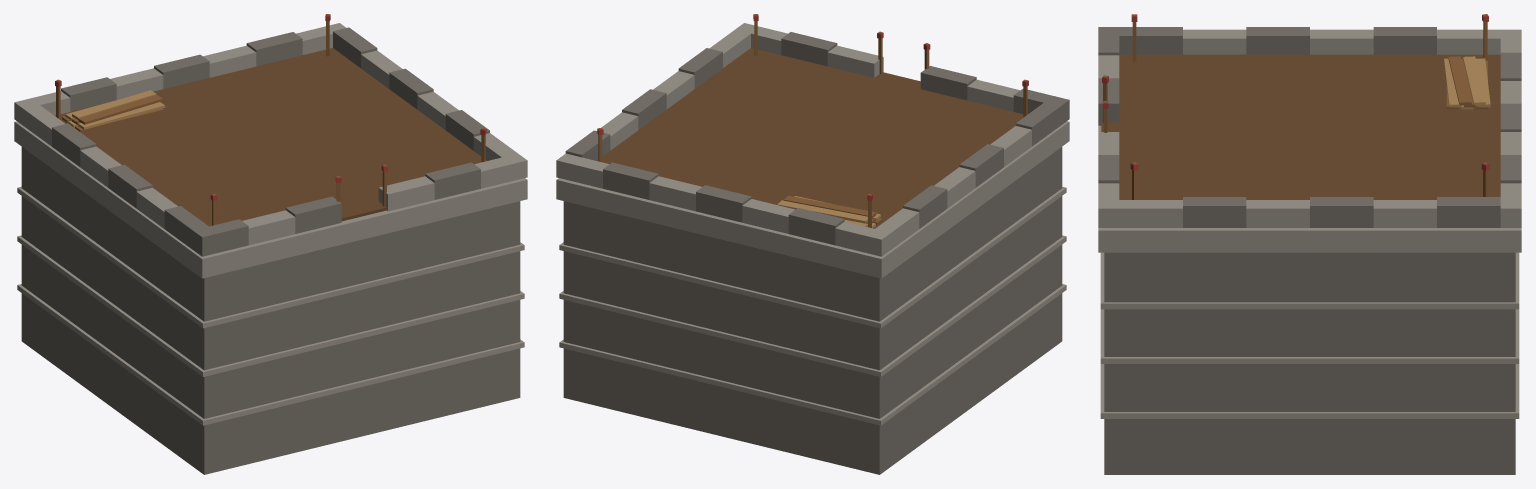
File: site_7x7_1.glb
3 renders of one model, left to right at view 1: azimuth 30°, elevation 25°; view 2: azimuth 150°, elevation 25°; view 3: azimuth 270°, elevation 25°, orthographic. The views are drawn at different scales.
Parts seen in each view (by area): view 1: site_7x7_1; view 2: site_7x7_1; view 3: site_7x7_1.
Part boxes in pixels (<box>): site_7x7_1: <box>14,14,527,474</box>; site_7x7_1: <box>556,14,1069,474</box>; site_7x7_1: <box>1098,14,1521,474</box>.
Bounding box in the file's own units: 7 × 5.45 × 7.
